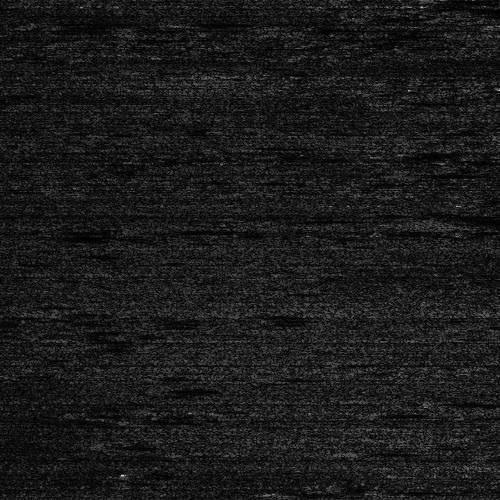rock: (398, 214, 500, 227)
shadow: (451, 214, 500, 227)
